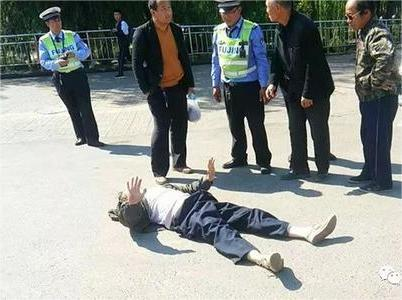down: (120, 156, 353, 279)
up: (262, 1, 337, 183), (131, 1, 199, 185), (206, 1, 273, 175), (344, 1, 401, 193), (38, 6, 101, 151), (110, 8, 133, 80)
